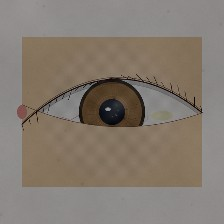pinguecula_lesion: (141, 99, 184, 133)
